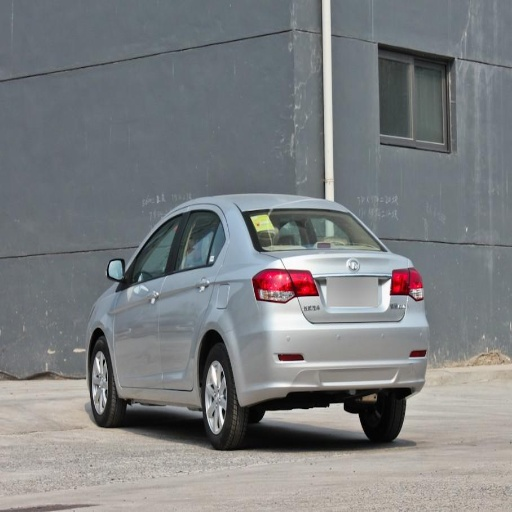back_bumper: (231, 295, 430, 400)
back_glass: (243, 209, 379, 249)
back_left_door: (159, 208, 223, 390)
tailgate: (280, 246, 399, 321)
